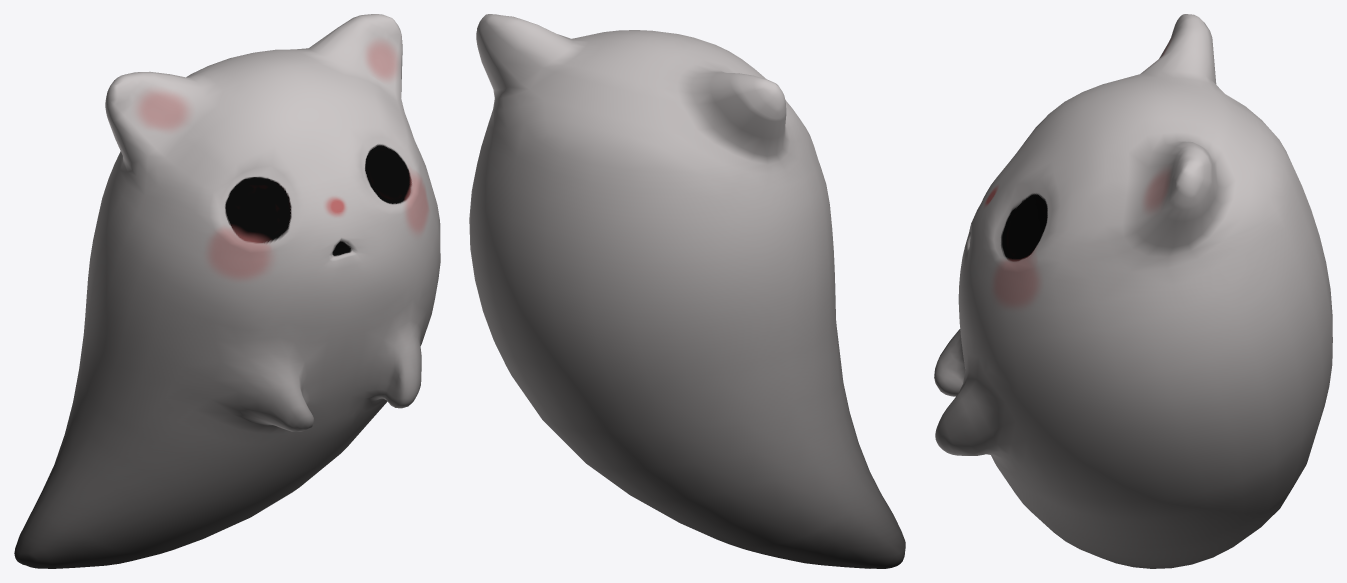
3 renders of one model, left to right at view 1: azimuth 30°, elevation 25°; view 2: azimuth 150°, elevation 25°; view 3: azimuth 270°, elevation 25°, orthographic. The views are drawn at different scales.
Visible parts, largest first — view 1: cat_G_geo; view 2: cat_G_geo; view 3: cat_G_geo.
Part boxes in pixels (<box>): cat_G_geo: <box>14,14,440,568</box>; cat_G_geo: <box>469,14,905,568</box>; cat_G_geo: <box>934,14,1332,568</box>.
Size of the model in its own units: 4.42 by 4.87 by 3.33.
Materials: 1 (1 with a texture image).
